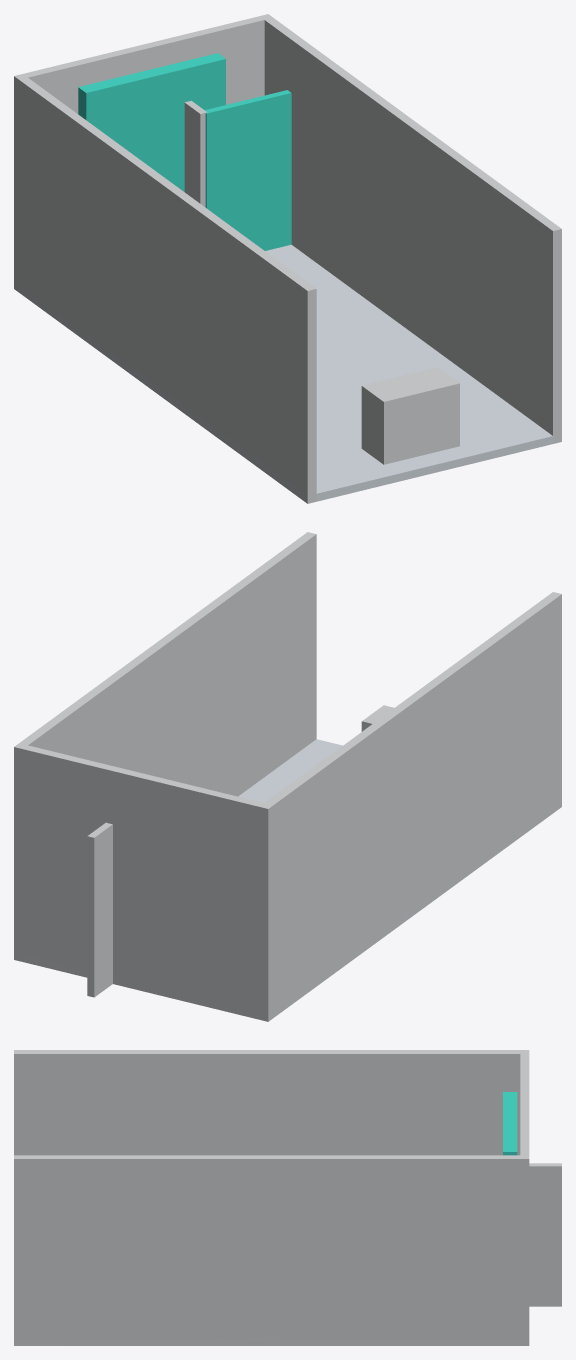
3 views of the same model, one above another, from view 1: azimuth 30°, elevation 25°; view 2: azimuth 150°, elevation 25°; view 3: azimuth 270°, elevation 25° (orthographic). The views are drawn at different scales.
Parts seen in each view (by area): view 1: Exhibition Booth Concept; view 2: Exhibition Booth Concept; view 3: Exhibition Booth Concept.
Boxes of the visible parts, box(x1,y1,x2,y2) form: Exhibition Booth Concept: box(14, 14, 561, 503); Exhibition Booth Concept: box(14, 532, 561, 1021); Exhibition Booth Concept: box(14, 1050, 561, 1345).
Size of the model in its own units: 4 by 3.2 by 8.51.
